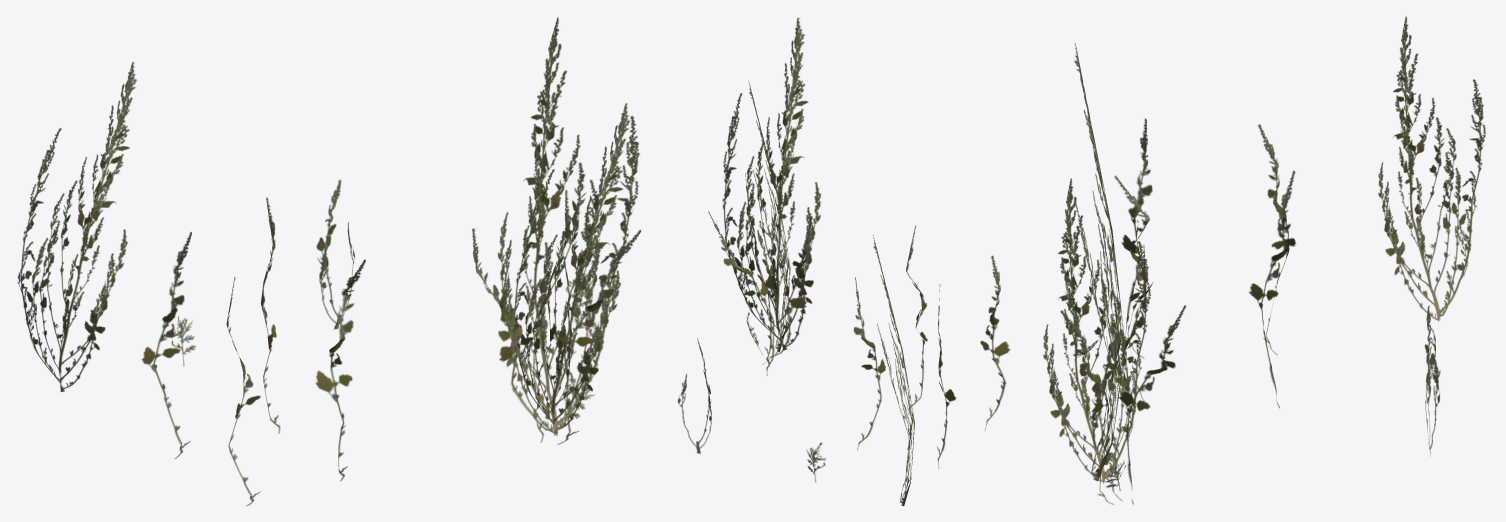
Rendered from weed_1_pbr_free_gpp_collection.glb.
3 views of the same model, side by side, from view 1: azimuth 30°, elevation 25°; view 2: azimuth 150°, elevation 25°; view 3: azimuth 270°, elevation 25° (orthographic). The views are drawn at different scales.
Parts seen in each view (by area): view 1: Plane009_Material #25_0, Plane016_Material #25_0, Plane010_Material #25_0, Plane005_Material #25_0, Plane004_Material #25_0, Plane012_Material #25_0, Plane011_Material #25_0, Plane020_Material #25_0, Plane006_Material #25_0, Plane003_Material #25_0; view 2: Plane009_Material #25_0, Plane016_Material #25_0, Plane010_Material #25_0, Plane003_Material #25_0, Plane011_Material #25_0, Plane013_Material #25_0, Plane006_Material #25_0, Plane020_Material #25_0, Plane005_Material #25_0, Plane004_Material #25_0, Plane012_Material #25_0, Plane021_Material #25_0; view 3: Plane016_Material #25_0, Plane010_Material #25_0, Plane009_Material #25_0, Plane006_Material #25_0, Plane013_Material #25_0, Plane003_Material #25_0, Plane021_Material #25_0, Plane012_Material #25_0, Plane004_Material #25_0, Plane020_Material #25_0, Plane005_Material #25_0, Plane011_Material #25_0.
Part boxes in pixels (<box>): Plane009_Material #25_0: <box>497,17,639,435</box>; Plane016_Material #25_0: <box>17,62,136,391</box>; Plane010_Material #25_0: <box>513,103,629,432</box>; Plane005_Material #25_0: <box>315,259,365,480</box>; Plane004_Material #25_0: <box>142,232,191,458</box>; Plane012_Material #25_0: <box>556,230,641,444</box>; Plane011_Material #25_0: <box>472,228,557,435</box>; Plane020_Material #25_0: <box>316,180,354,329</box>; Plane006_Material #25_0: <box>261,197,280,433</box>; Plane003_Material #25_0: <box>226,277,260,505</box>; Plane009_Material #25_0: <box>722,17,821,350</box>; Plane016_Material #25_0: <box>873,235,914,506</box>; Plane010_Material #25_0: <box>748,81,790,351</box>; Plane003_Material #25_0: <box>980,255,1010,430</box>; Plane011_Material #25_0: <box>763,217,812,364</box>; Plane013_Material #25_0: <box>708,211,774,375</box>; Plane006_Material #25_0: <box>853,277,885,449</box>; Plane020_Material #25_0: <box>677,338,711,453</box>; Plane005_Material #25_0: <box>906,225,927,414</box>; Plane004_Material #25_0: <box>937,284,955,468</box>; Plane012_Material #25_0: <box>745,173,772,366</box>; Plane021_Material #25_0: <box>757,230,783,342</box>; Plane016_Material #25_0: <box>1378,16,1485,322</box>; Plane010_Material #25_0: <box>1043,178,1150,483</box>; Plane009_Material #25_0: <box>1074,43,1125,481</box>; Plane006_Material #25_0: <box>1249,170,1295,408</box>; Plane013_Material #25_0: <box>1119,305,1186,504</box>; Plane003_Material #25_0: <box>1121,118,1152,358</box>; Plane021_Material #25_0: <box>1091,329,1132,464</box>; Plane012_Material #25_0: <box>1060,310,1113,504</box>; Plane004_Material #25_0: <box>1258,124,1288,355</box>; Plane020_Material #25_0: <box>1425,305,1440,454</box>; Plane005_Material #25_0: <box>1114,175,1152,407</box>; Plane011_Material #25_0: <box>1103,245,1146,501</box>.
Size of the model in its own units: 60.02 by 59.35 by 52.81.
1 material, 1 textured.
